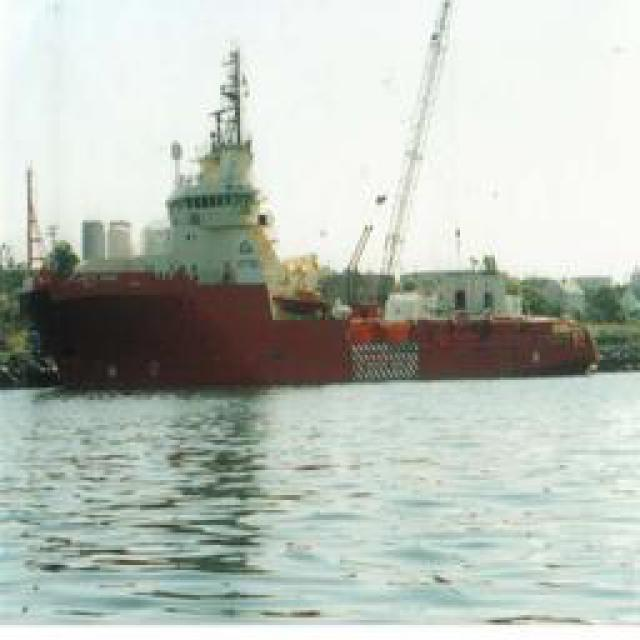Ship: (39, 27, 339, 385)
